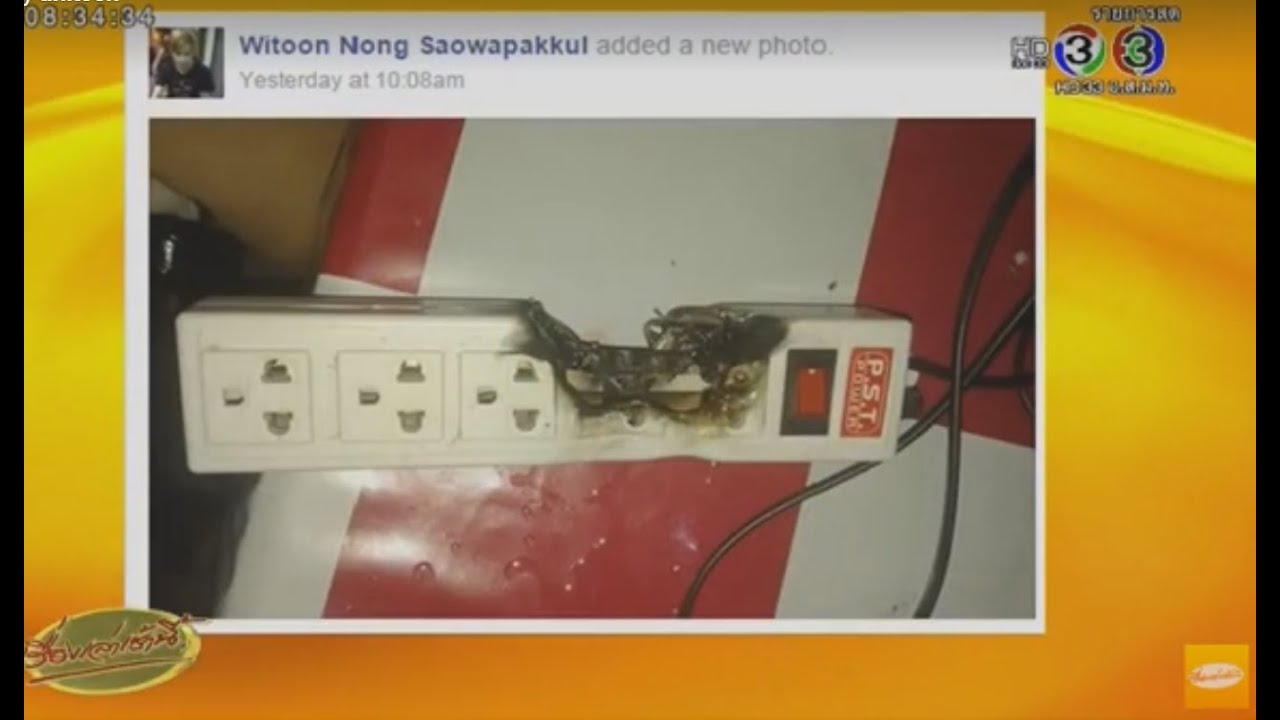Three_eye_plug: (163, 273, 933, 496)
